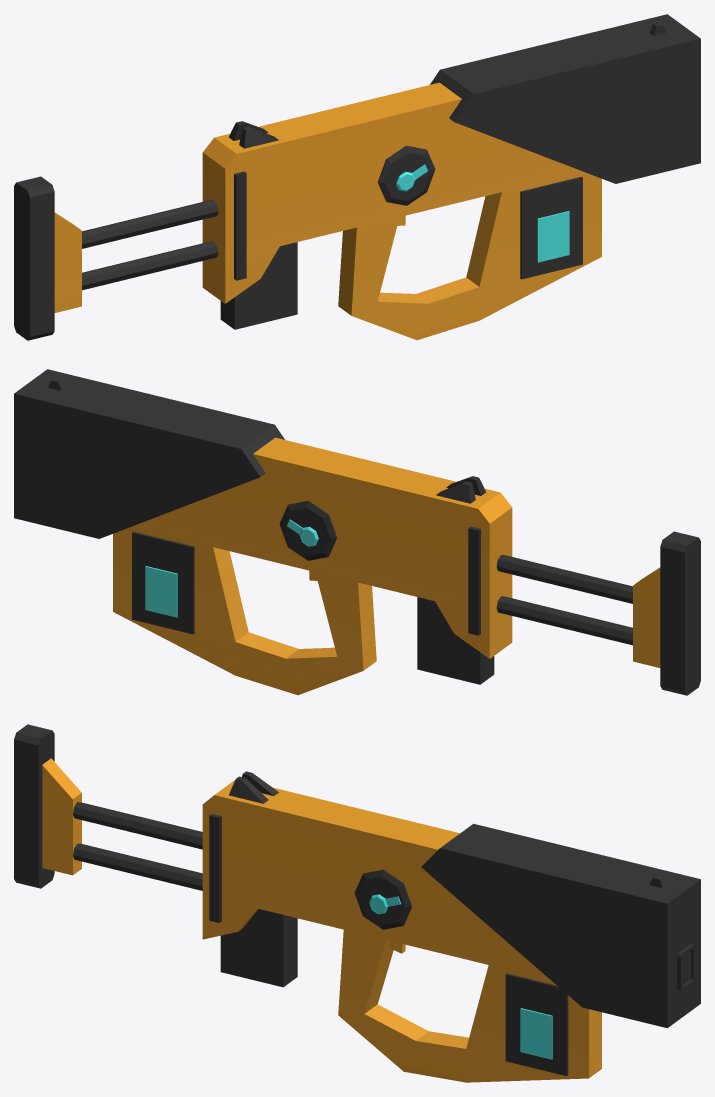
Rendered from M_Quantum_Disruptor.fbx.
3 renders of one model, top to bottom at view 1: azimuth 30°, elevation 25°; view 2: azimuth 150°, elevation 25°; view 3: azimuth 330°, elevation 25°, orthographic.
Parts seen in each view (by area): view 1: M_Quantum_Disruptor; view 2: M_Quantum_Disruptor; view 3: M_Quantum_Disruptor.
Boxes of the visible parts, <box> form: M_Quantum_Disruptor: <box>14,14,700,340</box>; M_Quantum_Disruptor: <box>14,369,700,695</box>; M_Quantum_Disruptor: <box>14,724,700,1082</box>.
Bounding box in the file's own units: 361 × 130 × 31.4.
1 material, 1 textured.
